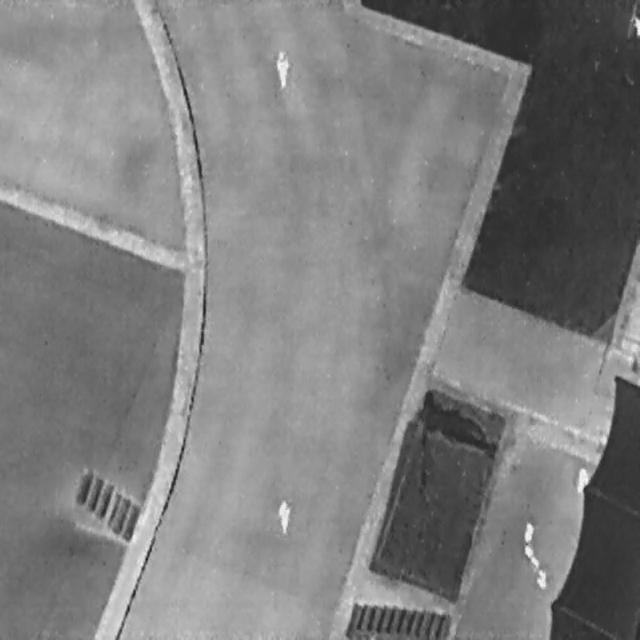Person: (272, 46, 293, 90), (275, 496, 291, 535)
